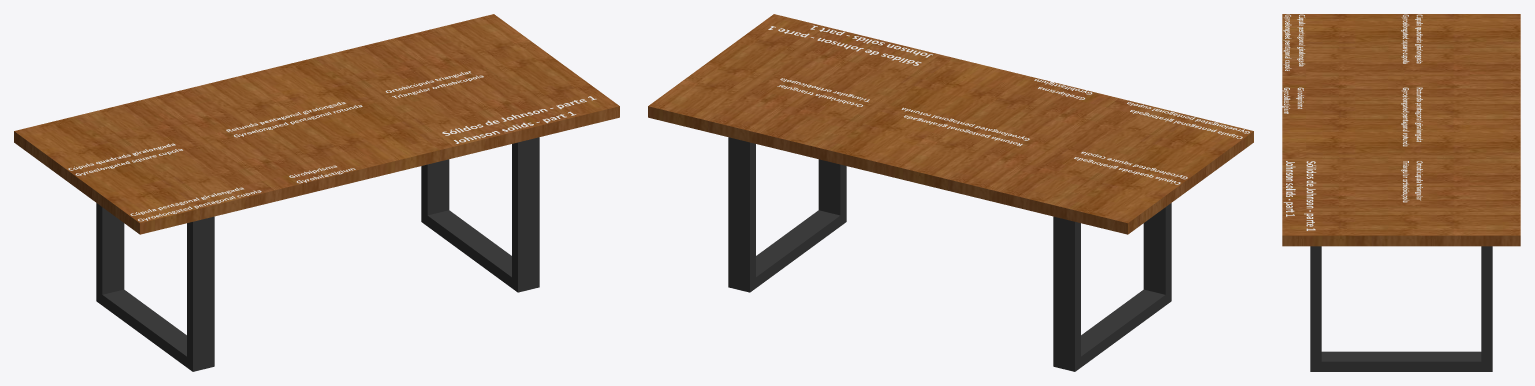
File: johnson1e.glb
3 views of the same model, side by side, from view 1: azimuth 30°, elevation 25°; view 2: azimuth 150°, elevation 25°; view 3: azimuth 270°, elevation 25° (orthographic). The views are drawn at different scales.
Parts seen in each view (by area): view 1: object 1, Composant#1 (×2), Sólidos de Johns, Rotunda pentagon, Cúpula pentagona#1, Cúpula quadrada #1; view 2: object 1, Composant#1 (×2), Sólidos de Johns, Rotunda pentagon, Cúpula pentagona#1, Cúpula quadrada #1; view 3: object 1, Composant#1, Sólidos de Johns, Rotunda pentagon, Cúpula pentagona#1, Cúpula quadrada #1, Ortobicúpula tri, Girobiprisma Gyr.
Boxes of the visible parts, box(x1,y1,x2,y2) form: object 1: box(14, 14, 619, 234); Composant#1 (×2): box(96, 137, 539, 371); Sólidos de Johns: box(442, 96, 596, 143); Rotunda pentagon: box(226, 102, 362, 137); Cúpula pentagona#1: box(130, 187, 261, 221); Cúpula quadrada #1: box(68, 143, 182, 175); object 1: box(648, 14, 1253, 234); Composant#1 (×2): box(728, 137, 1171, 371); Sólidos de Johns: box(768, 25, 932, 65); Rotunda pentagon: box(901, 107, 1029, 146); Cúpula pentagona#1: box(1127, 102, 1249, 138); Cúpula quadrada #1: box(1074, 151, 1187, 184); object 1: box(1282, 14, 1520, 246); Composant#1: box(1310, 246, 1492, 371); Sólidos de Johns: box(1283, 161, 1316, 230); Rotunda pentagon: box(1401, 87, 1422, 146); Cúpula pentagona#1: box(1283, 14, 1305, 70); Cúpula quadrada #1: box(1401, 14, 1422, 63); Ortobicúpula tri: box(1401, 161, 1422, 202); Girobiprisma Gyr: box(1282, 87, 1303, 113).
Size of the model in its own units: 2.2 by 0.7711 by 1.
Materials: 3 (1 with a texture image).
